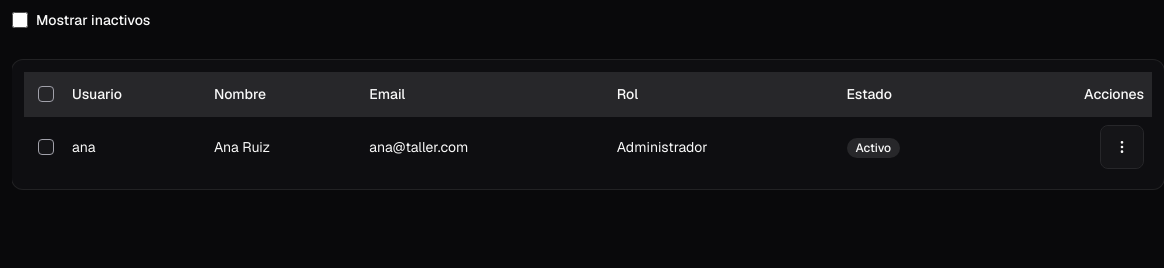
UsersTable — which rows are visible › hides them again when switched back off
Step 1. Click the checkbox labelled "Mostrar inactivos" → point(20, 20), box [12, 12, 28, 28]
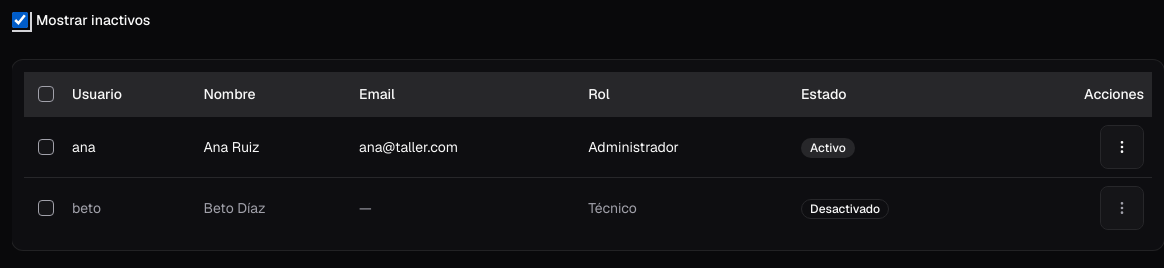
Step 2. Click the checkbox labelled "Mostrar inactivos" → point(20, 20), box [12, 12, 28, 28]
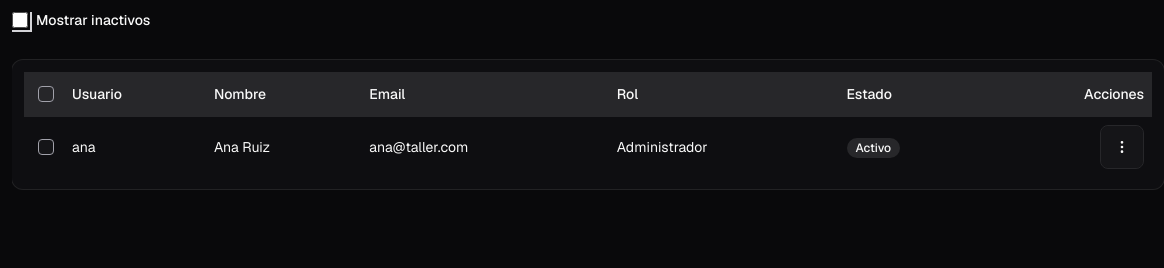
Result: the text "beto" is gone
